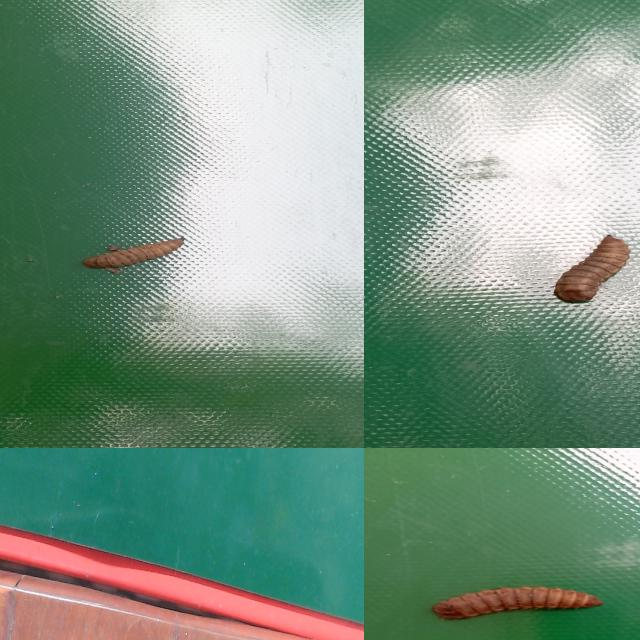Maggot: (431, 587, 602, 623), (553, 235, 631, 306), (81, 237, 184, 273)
